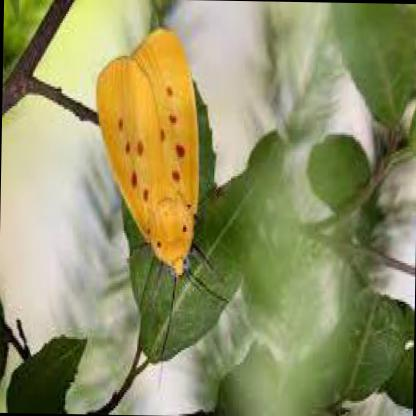Leaf Webber: (92, 26, 230, 370)
